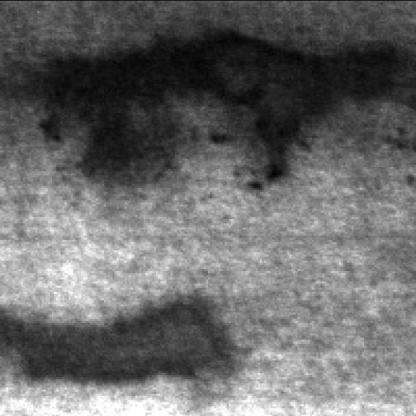patches: (27, 25, 395, 191), (0, 295, 229, 385)
